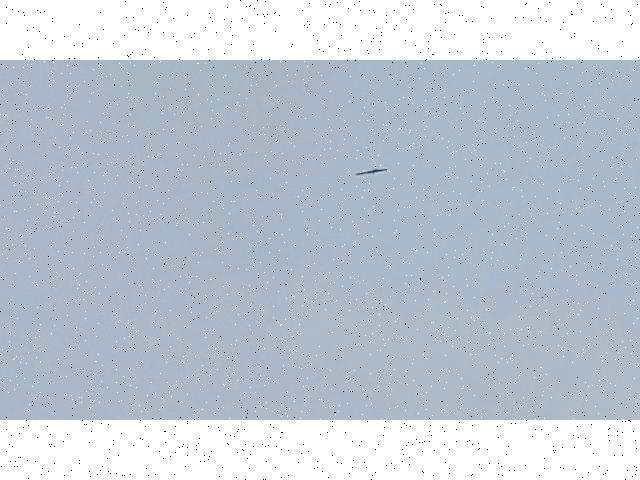Anti-Drone: (354, 166, 388, 178)
